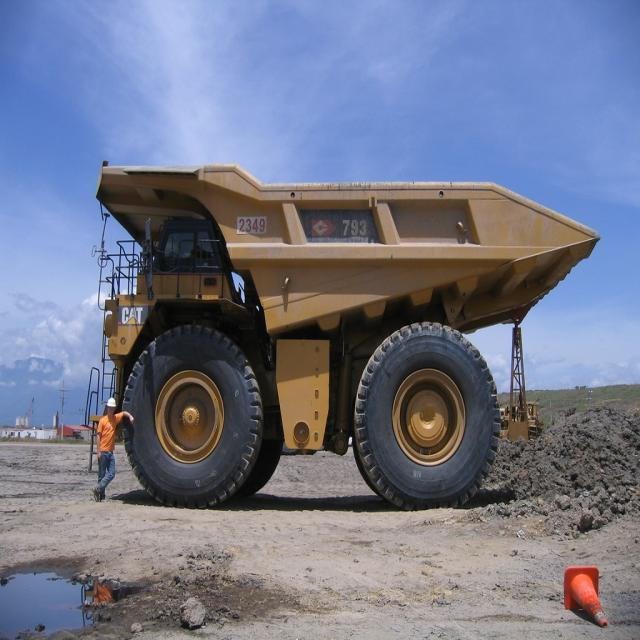dump_truck: (82, 154, 604, 510)
